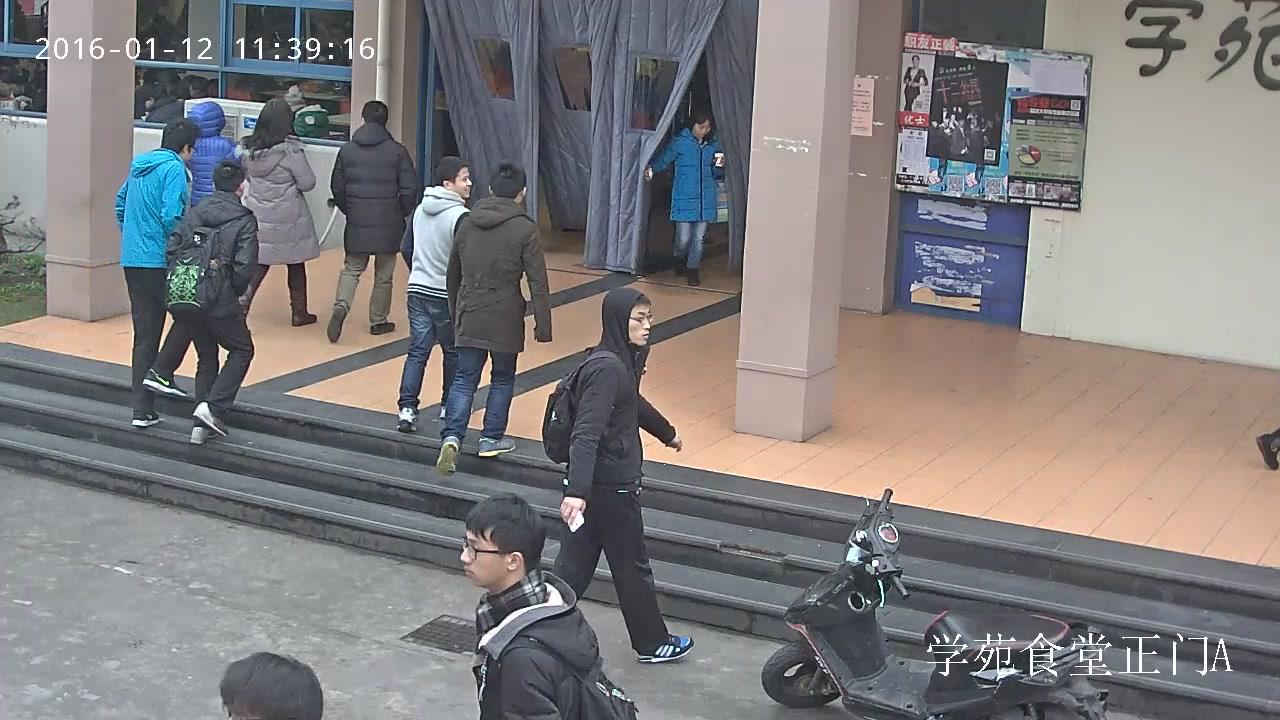person: (541, 288, 695, 664), (458, 491, 638, 720), (435, 162, 553, 477), (166, 160, 259, 443), (114, 117, 193, 425), (325, 100, 418, 342), (399, 156, 473, 432), (239, 98, 321, 327), (645, 113, 724, 286), (185, 100, 234, 209), (284, 83, 328, 137), (903, 55, 927, 113), (145, 84, 176, 123)
